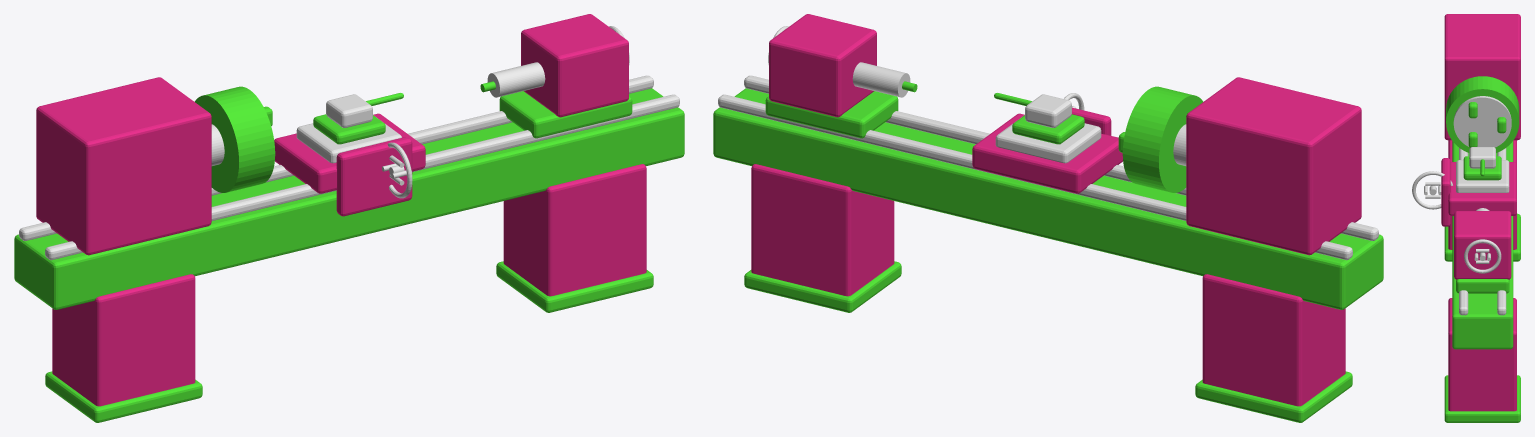
File: станок М.fbx
3 views of the same model, side by side, from view 1: azimuth 30°, elevation 25°; view 2: azimuth 150°, elevation 25°; view 3: azimuth 270°, elevation 25° (orthographic). The views are drawn at different scales.
Visible parts, largest first — view 1: Станина 16К20, Передняя бабка, Тумба, Тумба.001, Задняя бабка, Патрон, Направляющая, Фартук суппорта, Основание задней бабки, Каретка суппорта, Основание тумбы, Основание тумбы.001 (+5 smaller); view 2: Станина 16К20, Передняя бабка, Тумба, Тумба.001, Задняя бабка, Патрон, Каретка суппорта, Направляющая.001, Основание задней бабки, Основание тумбы, Основание тумбы.001, Направляющая (+4 smaller); view 3: Передняя бабка, Тумба.001, Станина 16К20, Задняя бабка, Патрон, Лицевая часть патрона, Каретка суппорта, Основание тумбы.001, Поперечные салазки, Основание задней бабки, Фартук суппорта, Верхние салазки (+10 smaller).
Part boxes in pixels (x1,y1,x2,y2): Станина 16К20: (14, 88, 684, 309); Передняя бабка: (36, 77, 211, 255); Тумба: (52, 274, 195, 406); Тумба.001: (503, 164, 646, 296); Задняя бабка: (521, 14, 628, 117); Патрон: (194, 86, 275, 192); Направляющая: (45, 94, 679, 260); Фартук суппорта: (336, 137, 412, 216); Основание задней бабки: (499, 91, 632, 138); Каретка суппорта: (274, 113, 425, 193); Основание тумбы: (45, 371, 202, 422); Основание тумбы.001: (496, 261, 653, 312); Станина 16К20: (713, 88, 1383, 309); Передняя бабка: (1186, 77, 1361, 255); Тумба: (1202, 274, 1345, 406); Тумба.001: (751, 164, 894, 296); Задняя бабка: (769, 14, 876, 117); Патрон: (1122, 86, 1203, 192); Каретка суппорта: (972, 113, 1122, 193); Направляющая.001: (718, 94, 1352, 260); Основание задней бабки: (765, 91, 898, 138); Основание тумбы: (1195, 371, 1352, 422); Основание тумбы.001: (744, 261, 901, 312); Направляющая: (744, 75, 1378, 240); Передняя бабка: (1444, 14, 1520, 140); Тумба.001: (1448, 298, 1516, 411); Станина 16К20: (1452, 141, 1513, 349); Задняя бабка: (1454, 211, 1511, 279); Патрон: (1446, 76, 1519, 152); Лицевая часть патрона: (1453, 96, 1511, 147); Каретка суппорта: (1448, 162, 1516, 215); Основание тумбы.001: (1444, 375, 1520, 422); Поперечные салазки: (1456, 160, 1509, 192); Основание задней бабки: (1456, 279, 1509, 293); Фартук суппорта: (1441, 158, 1450, 226); Верхние салазки: (1463, 156, 1501, 180).
Bounding box in the file's own units: 700 × 300 × 143.
